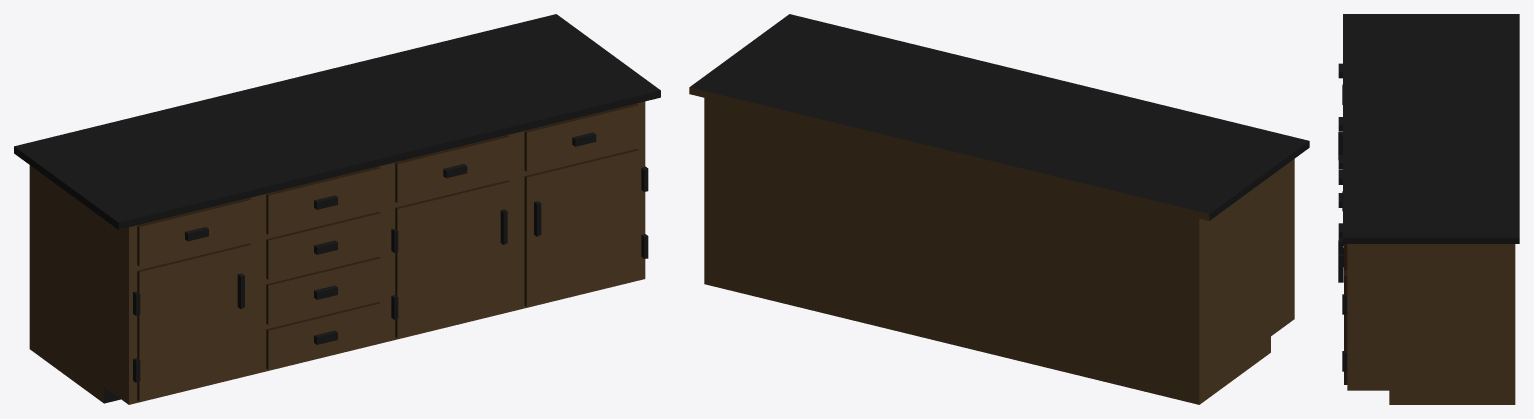
The model's file is counter.fbx.
3 views of the same model, side by side, from view 1: azimuth 30°, elevation 25°; view 2: azimuth 150°, elevation 25°; view 3: azimuth 270°, elevation 25° (orthographic). The views are drawn at different scales.
Visible parts, largest first — view 1: Cube.001; view 2: Cube.001; view 3: Cube.001.
Boxes of the visible parts, bbox=[...] form: Cube.001: bbox=[14, 14, 660, 404]; Cube.001: bbox=[689, 14, 1309, 404]; Cube.001: bbox=[1338, 14, 1519, 404].
Bounding box in the file's own units: 315 × 113 × 108.
